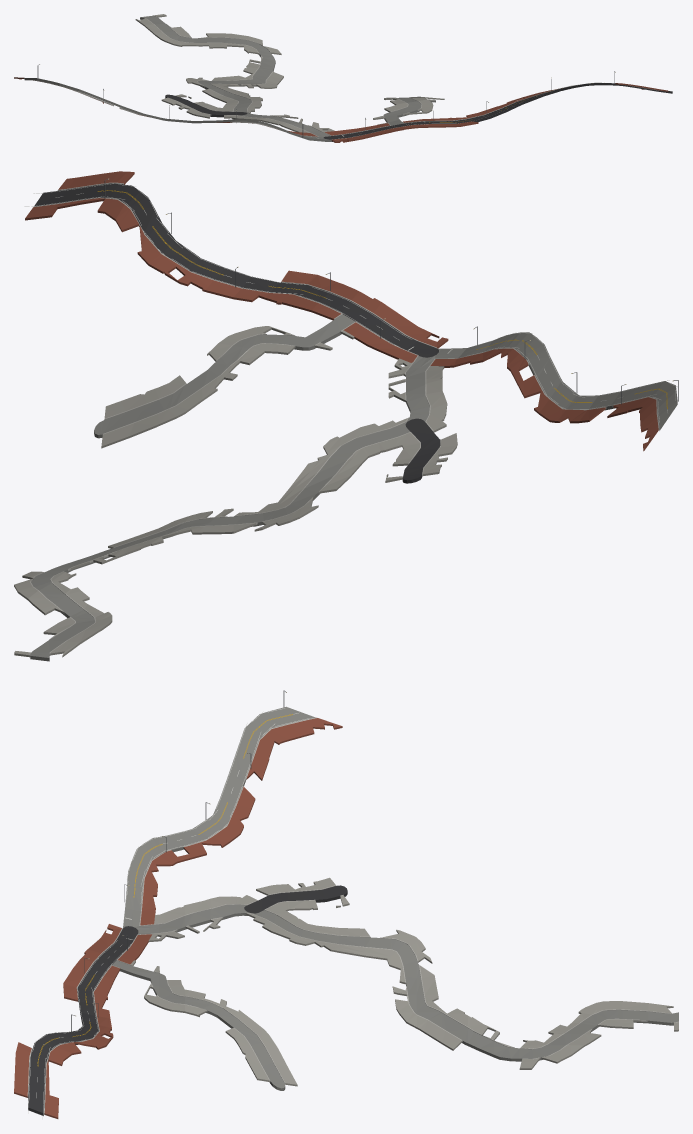
3 views of the same model, one above another, from view 1: azimuth 30°, elevation 25°; view 2: azimuth 150°, elevation 25°; view 3: azimuth 270°, elevation 25° (orthographic). The views are drawn at different scales.
Bounding box in the file's own units: 297 × 75.26 × 258.
